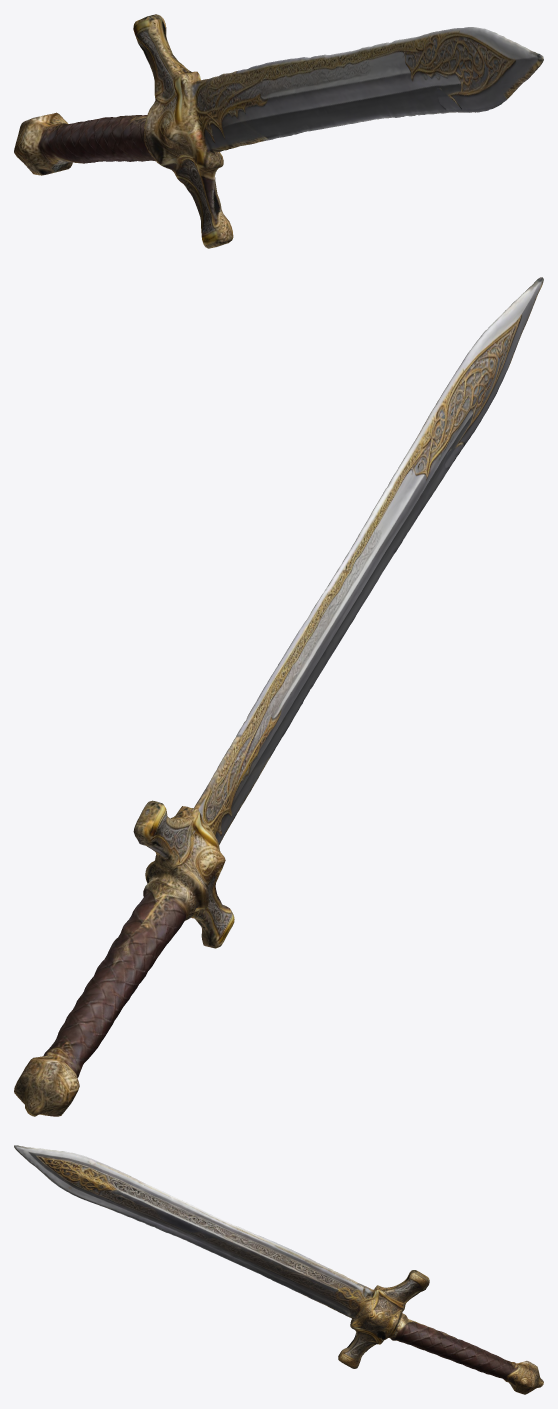
3 renders of one model, top to bottom at view 1: azimuth 30°, elevation 25°; view 2: azimuth 150°, elevation 25°; view 3: azimuth 270°, elevation 25°, orthographic. The views are drawn at different scales.
Parts seen in each view (by area): view 1: Mesh1.0; view 2: Mesh1.0; view 3: Mesh1.0.
Boxes of the visible parts, x1=… form: Mesh1.0: x1=14, y1=14, x2=543, y2=248; Mesh1.0: x1=14, y1=277, x2=543, y2=1116; Mesh1.0: x1=14, y1=1145, x2=543, y2=1394.
Size of the model in its own units: 13.8 by 103 by 201.
Materials: 1 (1 with a texture image).
